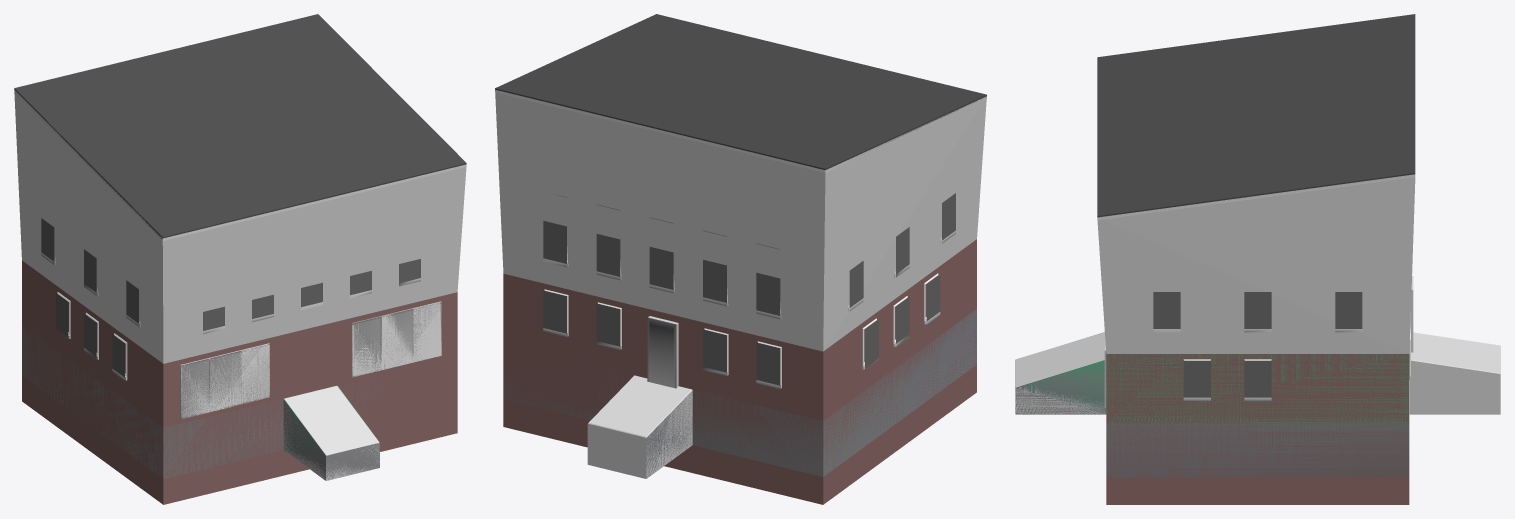
Rendered from eca_bld_shop_town_a.dae.
The picture shows the model from 3 angles, left to right: view 1: azimuth 30°, elevation 25°; view 2: azimuth 150°, elevation 25°; view 3: azimuth 270°, elevation 25°; orthographic projection. The views are drawn at different scales.
Parts seen in each view (by area): view 1: ind_bld_a60, ind_bld_a400, ind_bld_a100; view 2: ind_bld_a60, ind_bld_a400, ind_bld_a100; view 3: ind_bld_a60, ind_bld_a400, ind_bld_a100, Colmesh-1.
Part boxes in pixels (x1,y1,x2,y2): ind_bld_a60: (14,92,466,504); ind_bld_a400: (14,14,466,480); ind_bld_a100: (14,90,466,480); ind_bld_a60: (495,92,986,504); ind_bld_a400: (495,14,986,478); ind_bld_a100: (495,90,986,478); ind_bld_a60: (1097,177,1415,504); ind_bld_a400: (1015,14,1500,422); ind_bld_a100: (1015,174,1415,477); Colmesh-1: (1018,332,1409,422).
Bounding box in the file's own units: 12.4 × 16.01 × 12.18.
